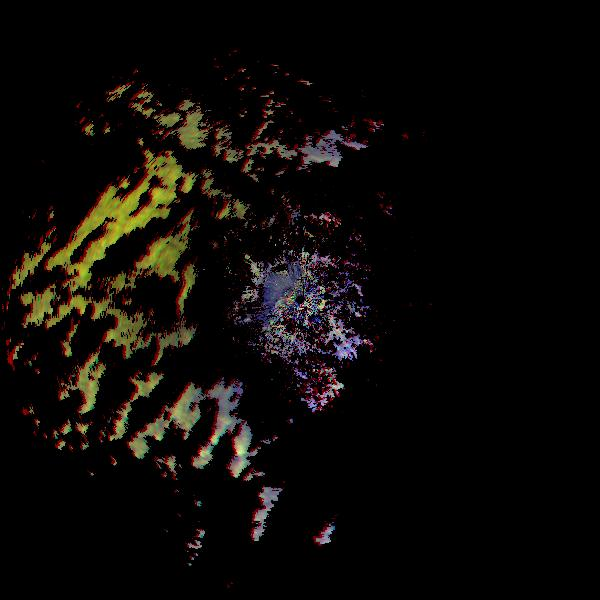roost: (265, 336, 355, 426)
